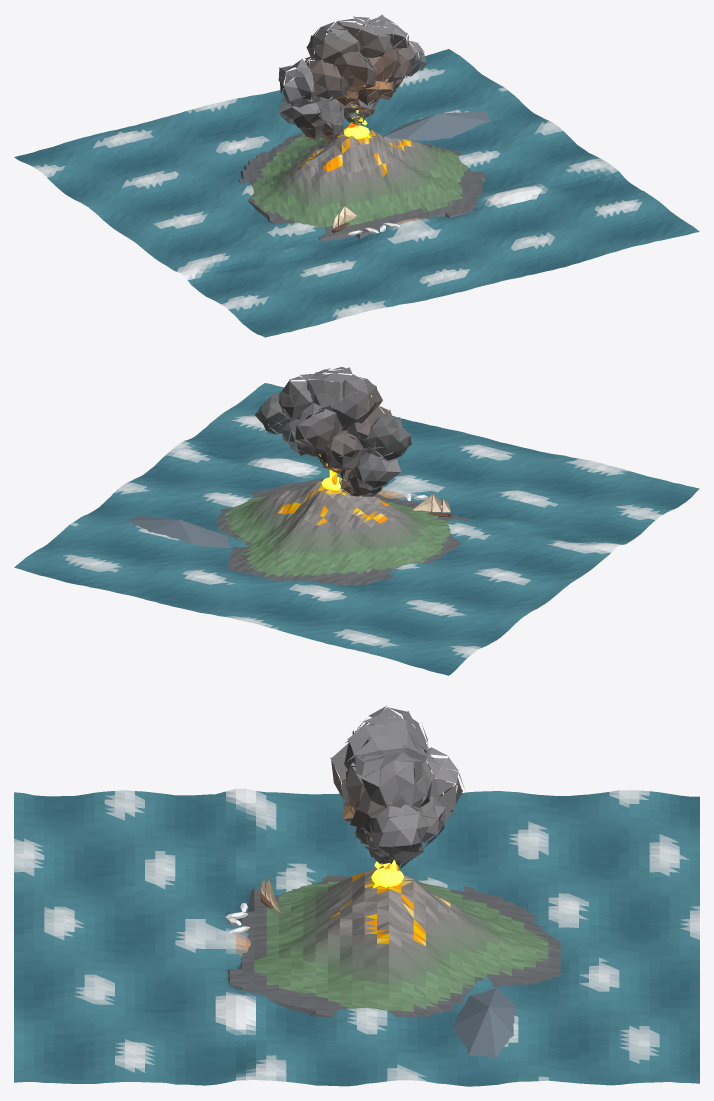
Rendered from 6.Krakatau_1883_LowPoly_Assemblr-compressed.glb.
3 renders of one model, top to bottom at view 1: azimuth 30°, elevation 25°; view 2: azimuth 150°, elevation 25°; view 3: azimuth 270°, elevation 25°, orthographic. The views are drawn at different scales.
Visible parts, largest first — view 1: Sunda_Strait_Ocean, Krakatau_Volcano_Island, Volcanic_Ash_Cloud; view 2: Sunda_Strait_Ocean, Krakatau_Volcano_Island, Volcanic_Ash_Cloud, Traditional_Schooner_Left; view 3: Sunda_Strait_Ocean, Krakatau_Volcano_Island, Volcanic_Ash_Cloud.
Part boxes in pixels (x1,y1,x2,y2): Sunda_Strait_Ocean: (14, 49, 699, 337); Krakatau_Volcano_Island: (239, 111, 490, 240); Volcanic_Ash_Cloud: (278, 14, 427, 141); Sunda_Strait_Ocean: (14, 383, 699, 675); Krakatau_Volcano_Island: (125, 477, 469, 585); Volcanic_Ash_Cloud: (254, 367, 411, 496); Traditional_Schooner_Left: (411, 493, 451, 516); Sunda_Strait_Ocean: (14, 788, 699, 1086); Krakatau_Volcano_Island: (227, 868, 560, 1058); Volcanic_Ash_Cloud: (330, 706, 464, 868).
Size of the model in its own units: 4.8 by 1.78 by 4.8.
